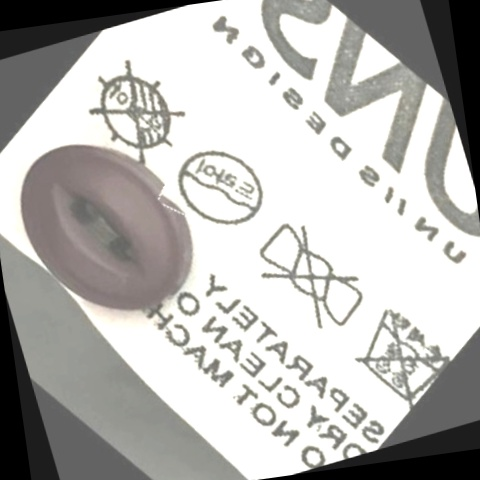DN_dry: (70, 45, 204, 180)
DN_wring: (235, 203, 386, 354)
dry_clean: (158, 126, 280, 250)
hand_wash: (334, 283, 463, 419)
